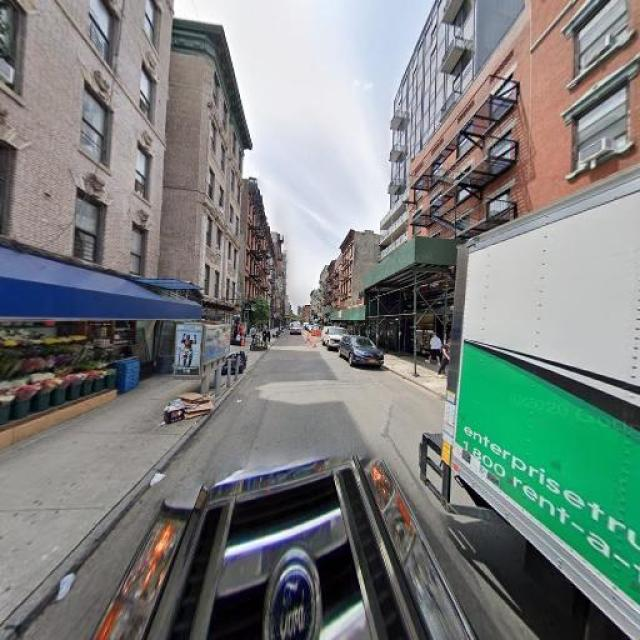Building: (1, 1, 172, 422), (410, 9, 531, 395), (537, 1, 640, 432), (205, 1, 240, 344)
